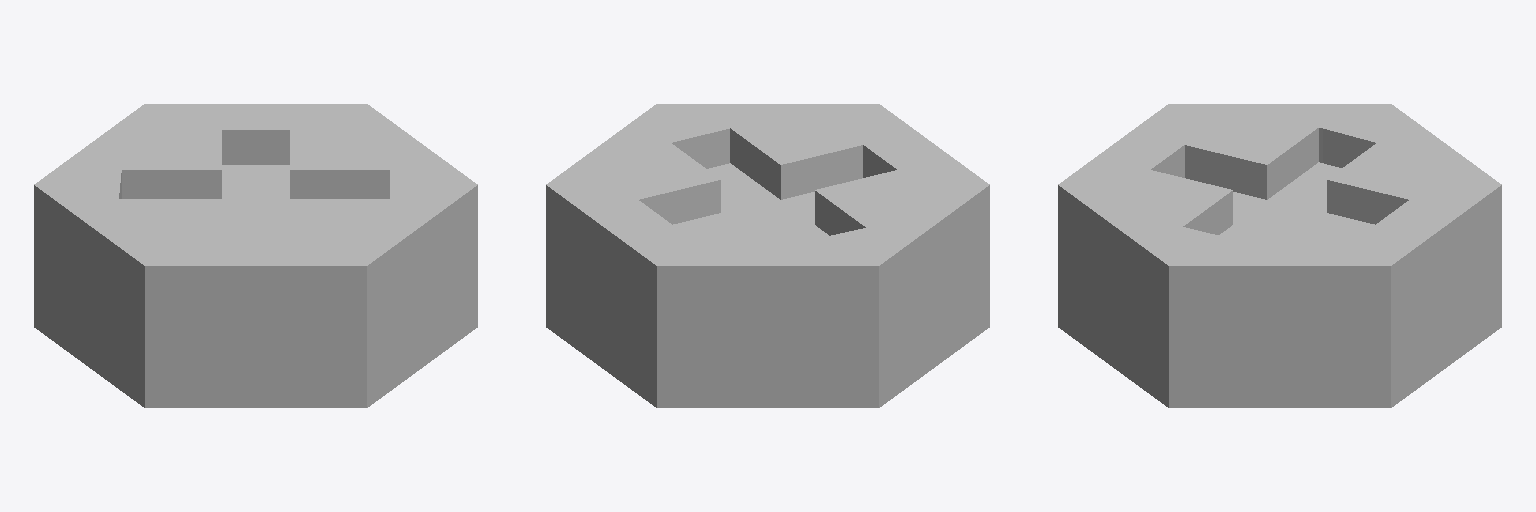
The model's file is original-24.obj.
3 views of the same model, side by side, from view 1: azimuth 30°, elevation 25°; view 2: azimuth 150°, elevation 25°; view 3: azimuth 270°, elevation 25° (orthographic).
Parts seen in each view (by area): view 1: mesh9/mesh9-geometry#mesh9-geometry; view 2: mesh9/mesh9-geometry#mesh9-geometry; view 3: mesh9/mesh9-geometry#mesh9-geometry.
Boxes of the visible parts, <box> form: mesh9/mesh9-geometry#mesh9-geometry: <box>34,104,477,407</box>; mesh9/mesh9-geometry#mesh9-geometry: <box>546,104,989,407</box>; mesh9/mesh9-geometry#mesh9-geometry: <box>1058,104,1501,407</box>.
Size of the model in its own units: 0.0804 by 0.0328 by 0.0928.